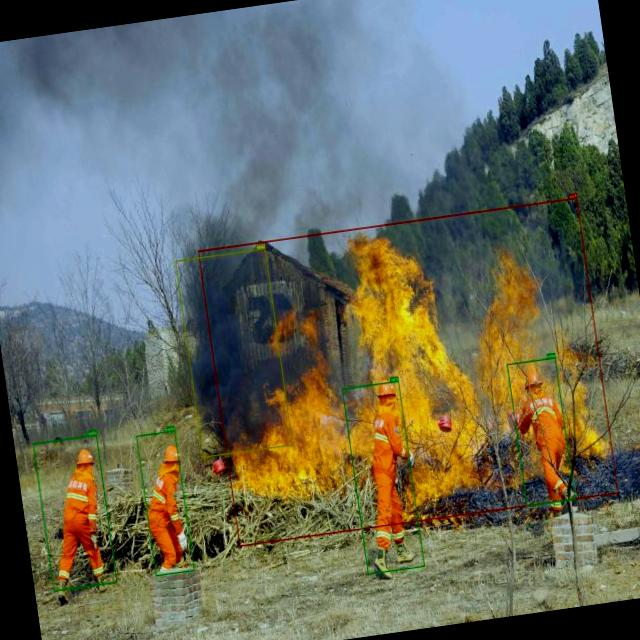fire: (198, 197, 619, 546)
smoke: (174, 248, 294, 458)
